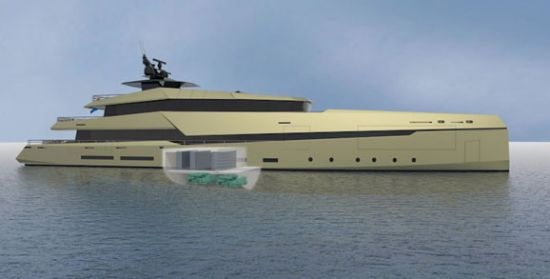yacht: (14, 50, 504, 172)
